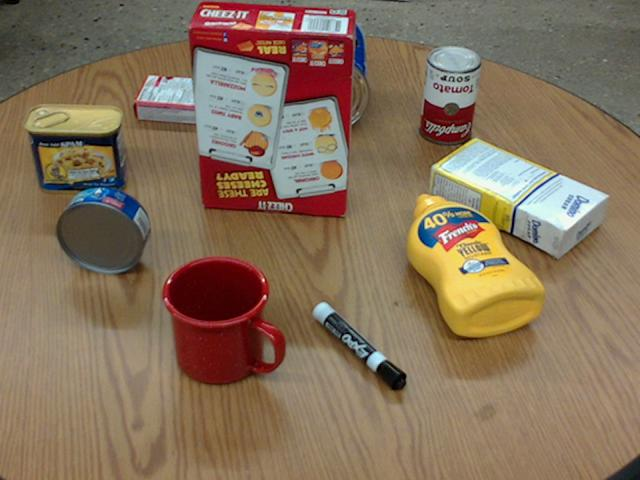cracker_box: (188, 0, 355, 213)
gelatin_box: (133, 76, 212, 124)
large_marker: (311, 302, 405, 390)
master_chef_can: (286, 8, 368, 130)
mug: (161, 255, 284, 385)
mustard_bottle: (405, 193, 544, 336)
potted_meat_can: (23, 106, 126, 194)
sugar_box: (427, 140, 608, 254)
tomato_soup_can: (417, 44, 479, 143)
tuna_fish_can: (56, 186, 149, 274)
